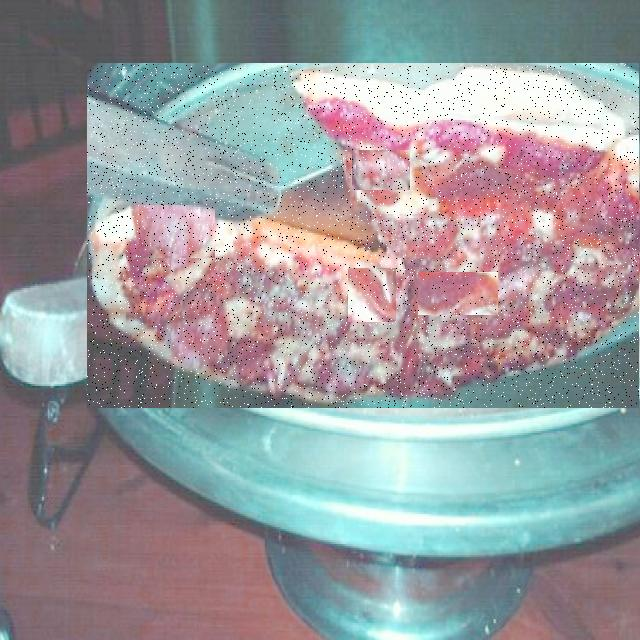Pepperoni: (139, 205, 215, 258), (418, 272, 498, 315), (168, 111, 228, 163), (383, 216, 453, 258), (348, 268, 396, 322), (352, 150, 410, 190), (240, 87, 275, 129)
Pizza: (88, 64, 639, 408)
